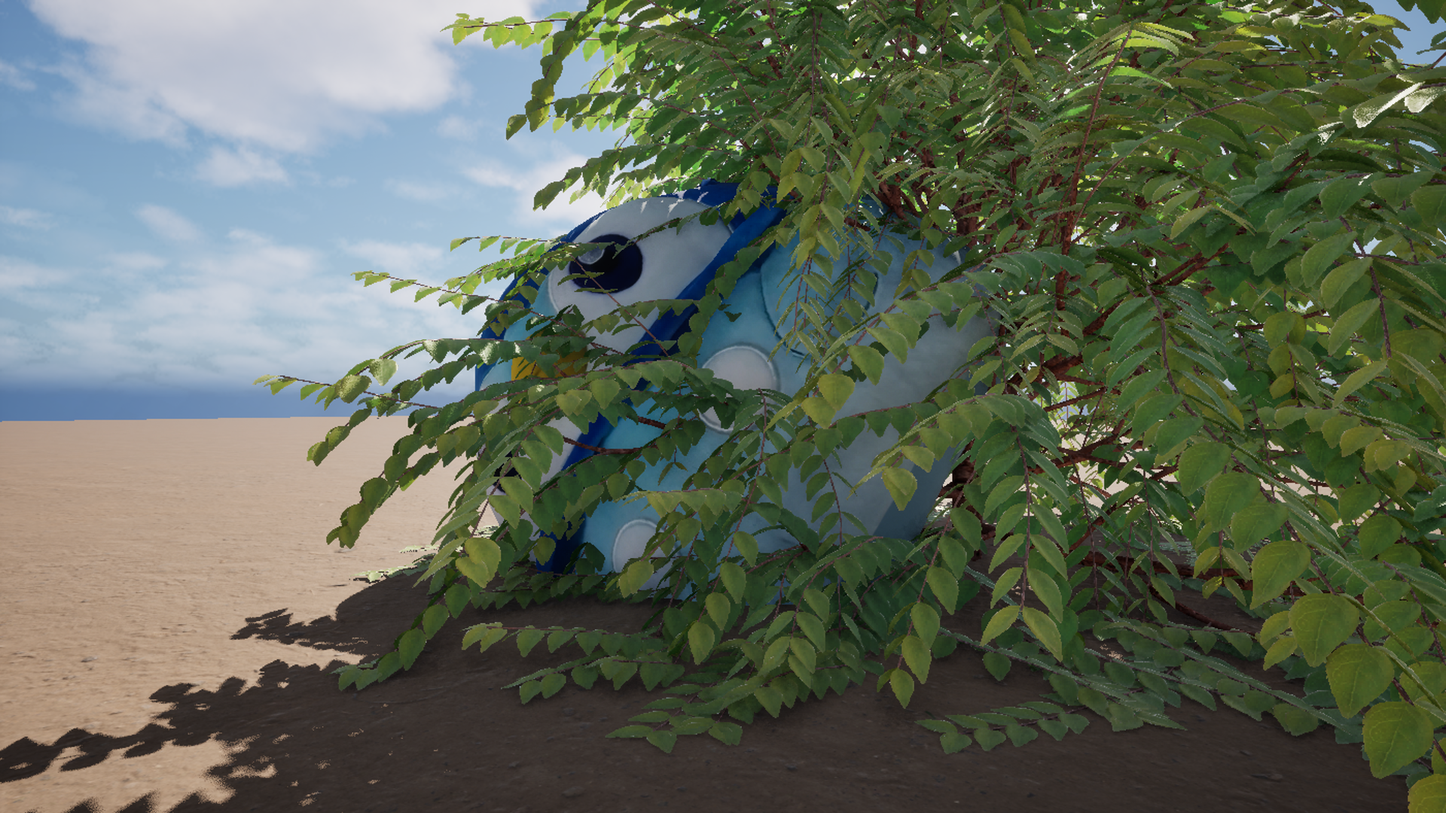Piplup: (307, 0, 1096, 813)
